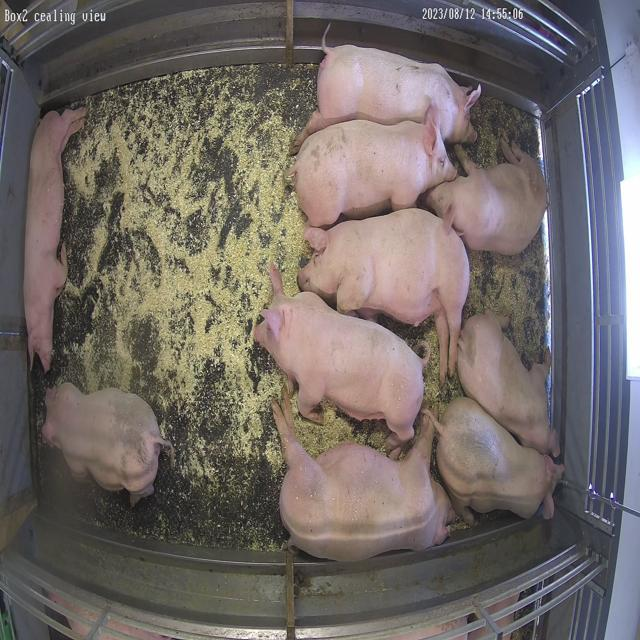Dirt: (465, 95, 542, 168)
Pig: (254, 266, 424, 456), (299, 208, 471, 382), (295, 39, 482, 150), (291, 116, 458, 226), (434, 398, 566, 526), (23, 107, 84, 372), (42, 383, 172, 506), (459, 312, 562, 458), (424, 139, 548, 254)
